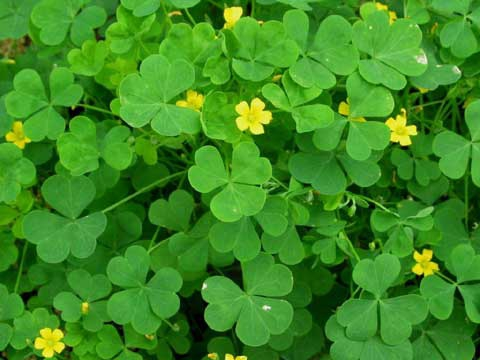clover: (200, 250, 296, 347), (336, 253, 429, 348), (20, 172, 109, 264), (118, 53, 203, 138), (117, 53, 203, 137), (106, 242, 183, 335), (186, 140, 273, 222), (349, 9, 428, 91), (6, 65, 84, 141), (219, 16, 300, 83)
yellow wood sorrel: (233, 97, 274, 136), (383, 114, 419, 146), (34, 325, 66, 358), (411, 246, 439, 278), (172, 87, 206, 113), (6, 119, 32, 150)
